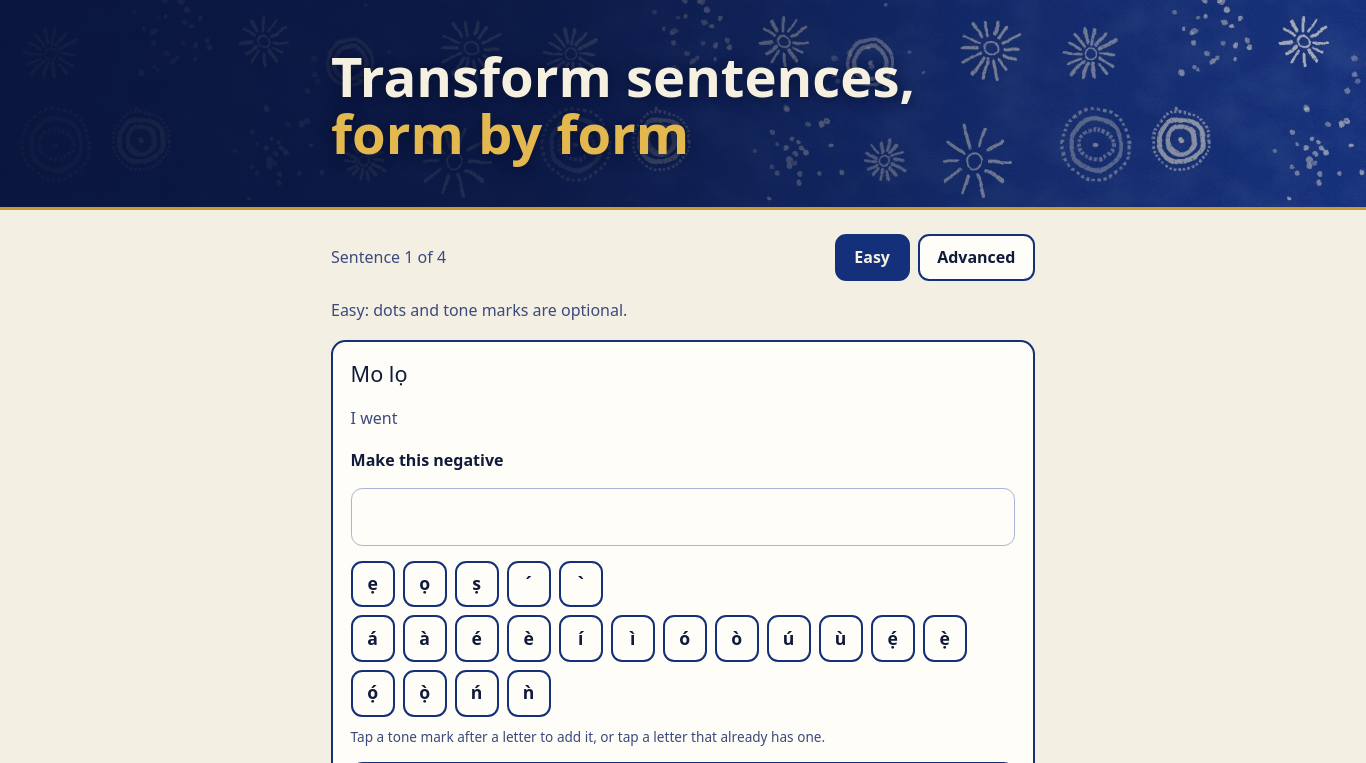
Test: Transform page › marks a wrong answer and shows the correct one beside it
Type "Mo ń lọ" into the field with test id "transform-input" at (683, 517), box [351,488,1015,546]
(page scrolled)
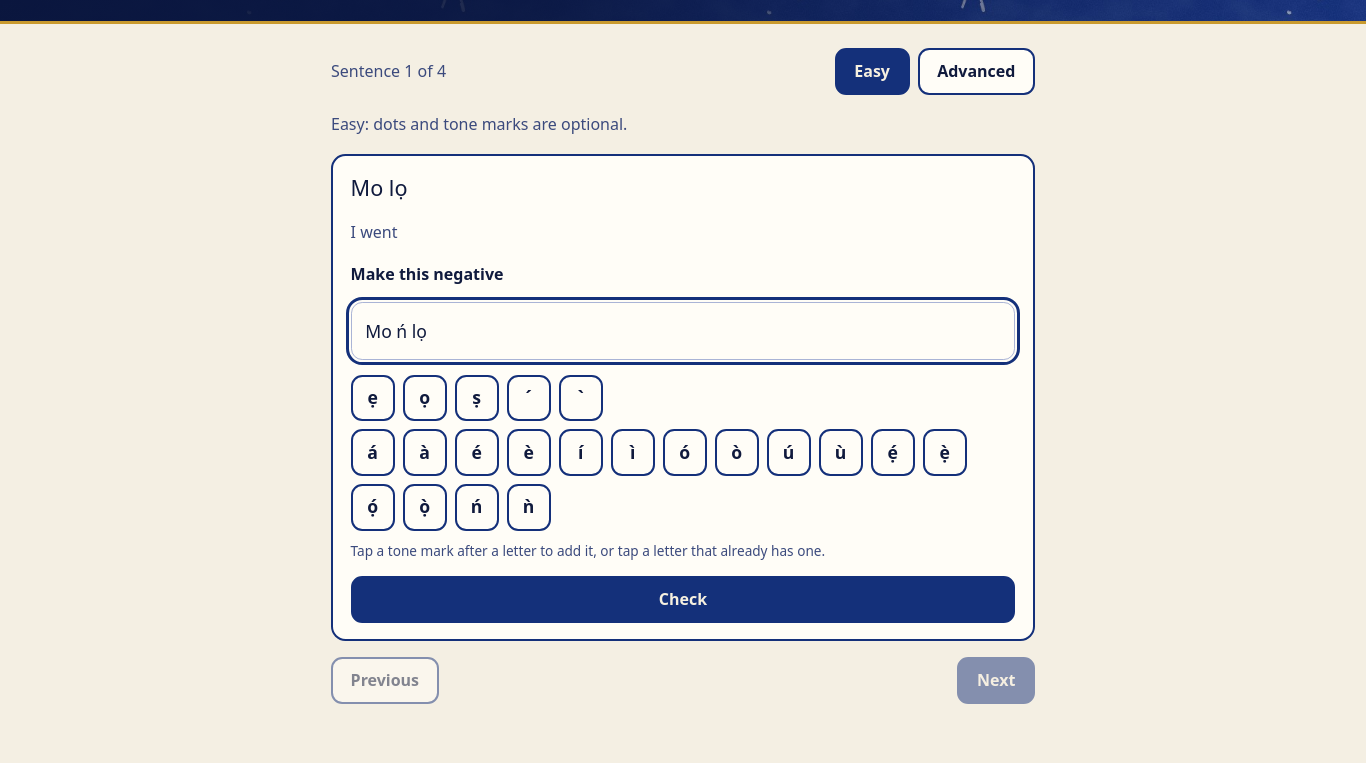
Click the button "Check" at (683, 600), box [351,576,1015,623]
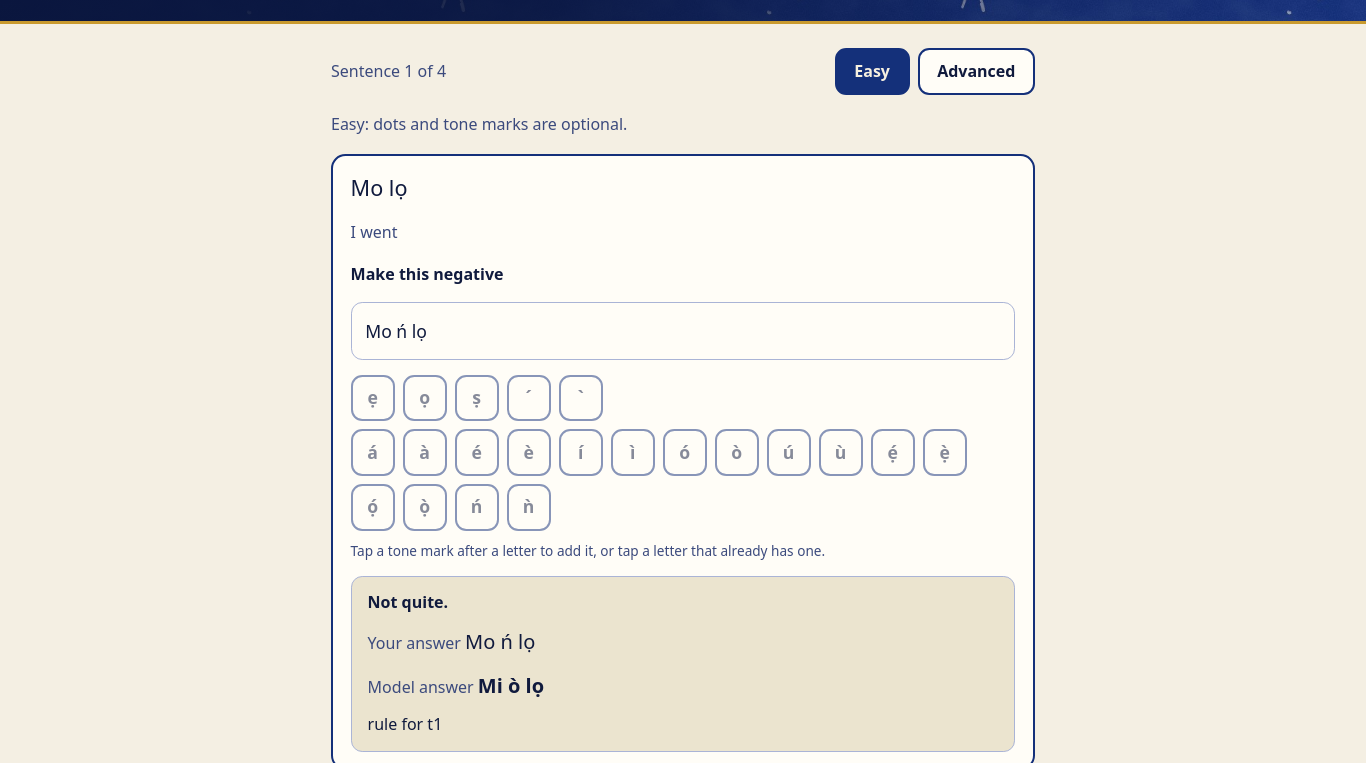
Result: the message with test id "transform-result" shows "Not quite" at [368,591,448,613]
Result: the element with test id "transform-reveal" shows "Mo ń lọ" at [465,628,535,655]
Result: the element with test id "transform-reveal" shows "Mi ò lọ" at [478,672,544,699]
